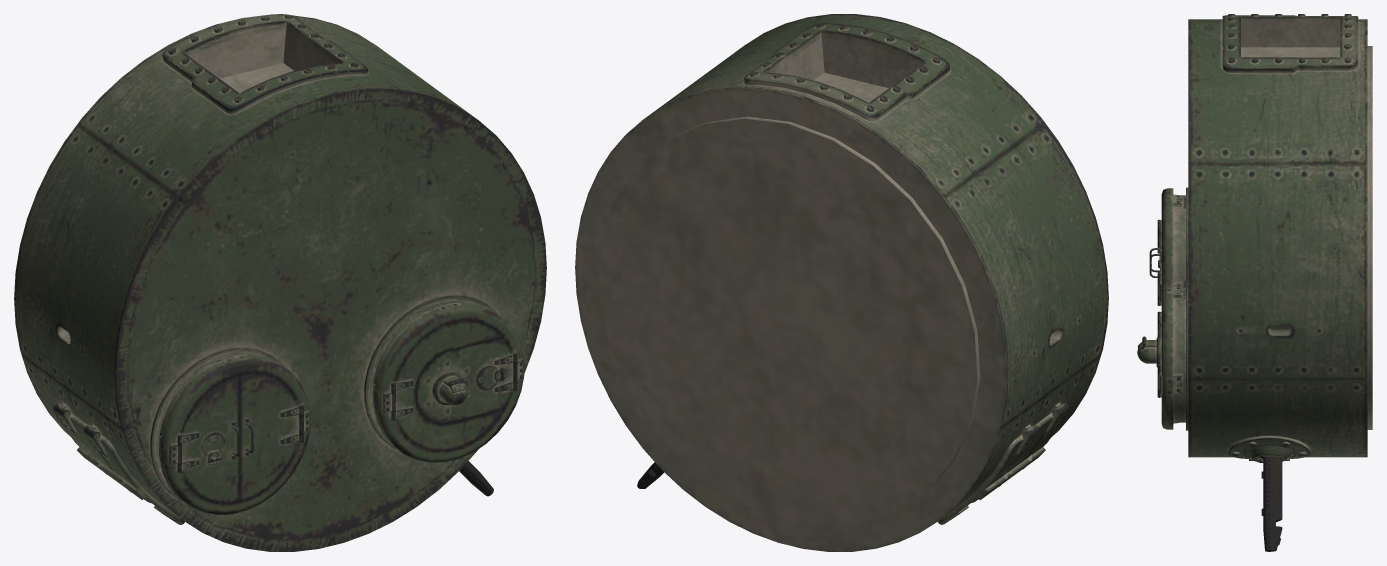
Rendered from Turret_01.glb.
The picture shows the model from 3 angles, left to right: view 1: azimuth 30°, elevation 25°; view 2: azimuth 150°, elevation 25°; view 3: azimuth 270°, elevation 25°; orthographic projection. The views are drawn at different scales.
Parts seen in each view (by area): view 1: set_0_group_0; view 2: set_0_group_0; view 3: set_0_group_0.
Part boxes in pixels (<box>): set_0_group_0: <box>14,14,546,551</box>; set_0_group_0: <box>575,14,1108,551</box>; set_0_group_0: <box>1137,14,1372,551</box>.
Bounding box in the file's own units: 2.16 × 2.35 × 1.16.
1 material, 1 textured.
